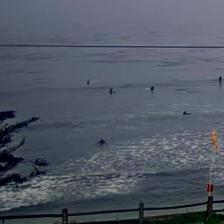surfer: (98, 139, 106, 144), (108, 88, 113, 95), (183, 112, 190, 116), (218, 76, 222, 82), (87, 80, 90, 86), (150, 86, 154, 90)
